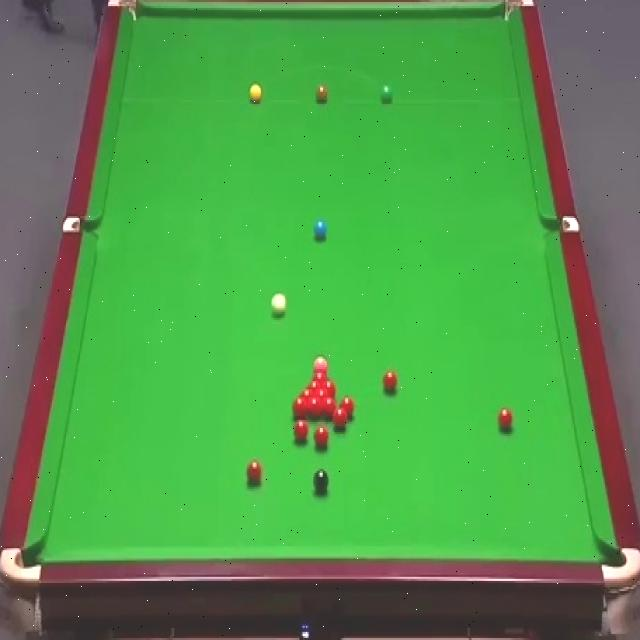black-ball: (314, 469, 329, 495)
blue-ball: (314, 220, 327, 240)
brown-ball: (315, 85, 328, 104)
green-ball: (380, 83, 393, 104)
pink-ball: (313, 354, 327, 368)
red-ball: (498, 405, 515, 433), (246, 458, 262, 483), (382, 370, 397, 395), (292, 420, 308, 443), (313, 426, 329, 449), (291, 396, 307, 418), (332, 408, 347, 431), (322, 396, 337, 419), (340, 396, 354, 419), (307, 396, 321, 417), (323, 379, 336, 395), (310, 368, 328, 379), (306, 379, 322, 389), (299, 388, 314, 398), (314, 388, 329, 397)
white-ball: (271, 292, 288, 316)
yellow-ball: (248, 84, 262, 103)
